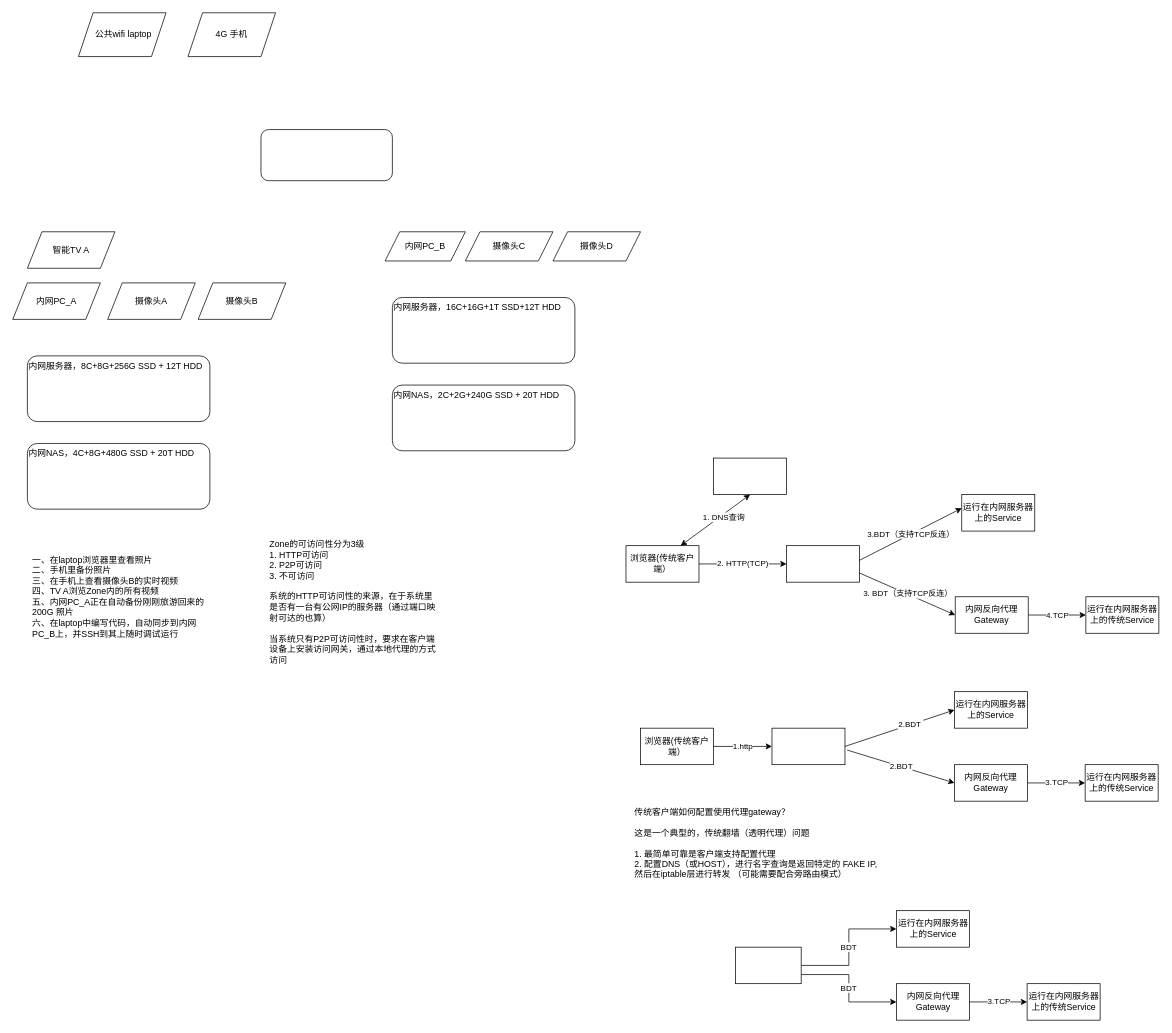
The diagram is 1172 pixels wide and 1033 high, and some of its shapes have lost their labels. The centre of each missing label's shape, as x and y in pixels:
"Zone gateway" goes at [823,563].
"公网虚拟机，2C+2G+40G" goes at [326,155].
"客户端代理gateway" goes at [808,746].
"新客户端" goes at [768,965].
"标准DNS，返回公网地址" goes at [750,476].
